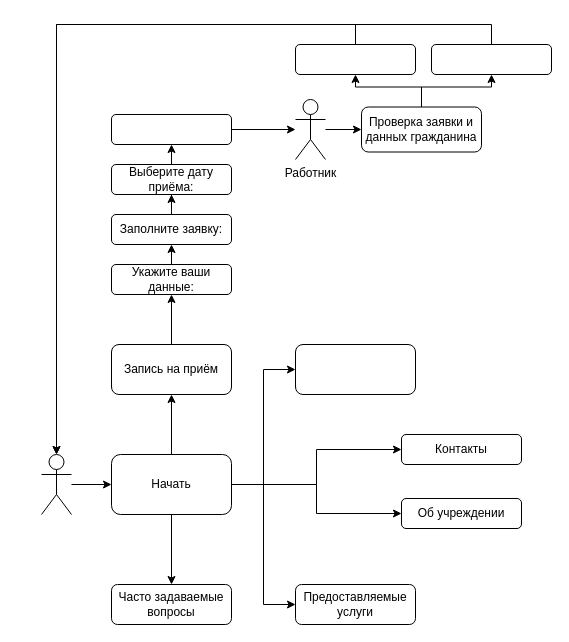
This 569x642 diagram has some shape labels left out. The box of each missing label's shape, as (x1, y1, x2, y2) in pixels:
График работы отдела: (294, 344, 416, 394)
Заявка зарегистрирована: (110, 114, 232, 144)
Заявка одобрена: (294, 44, 416, 74)
Заявка отклонена: (430, 44, 552, 74)
Пользователь: (40, 454, 72, 514)
